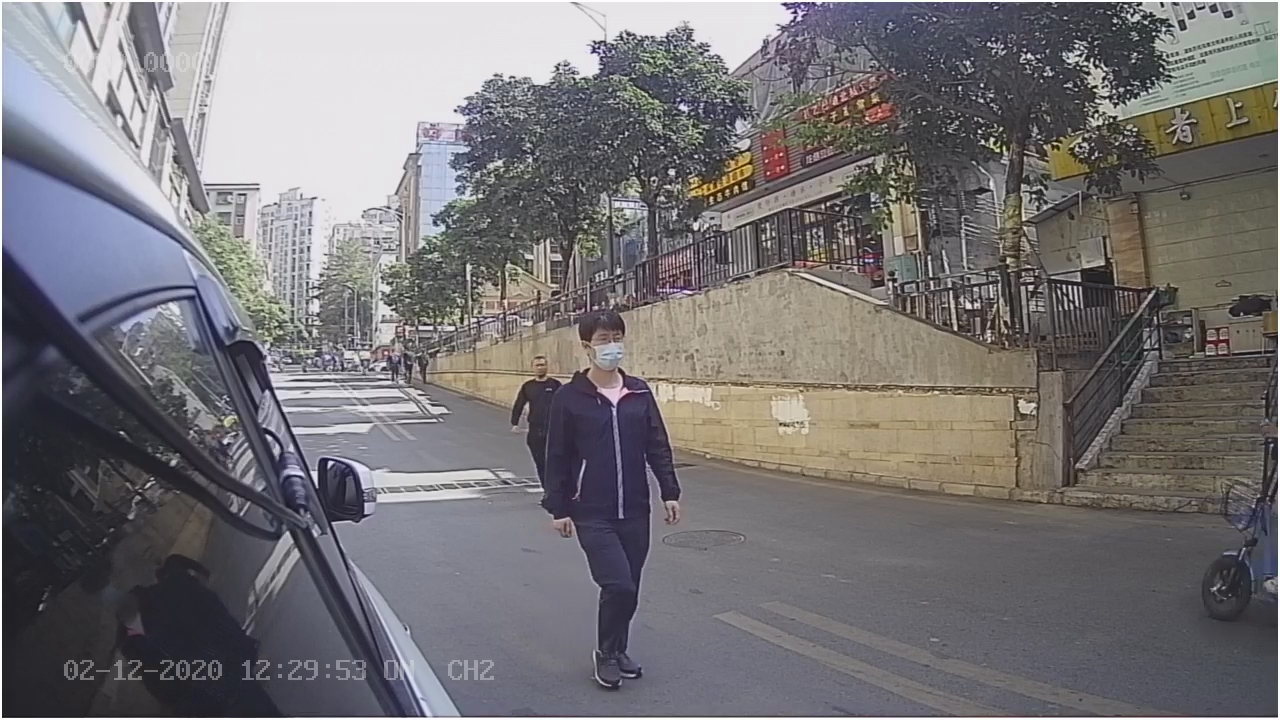person: (542, 301, 691, 689)
